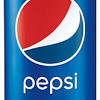Pepsi: (3, 1, 97, 100)
